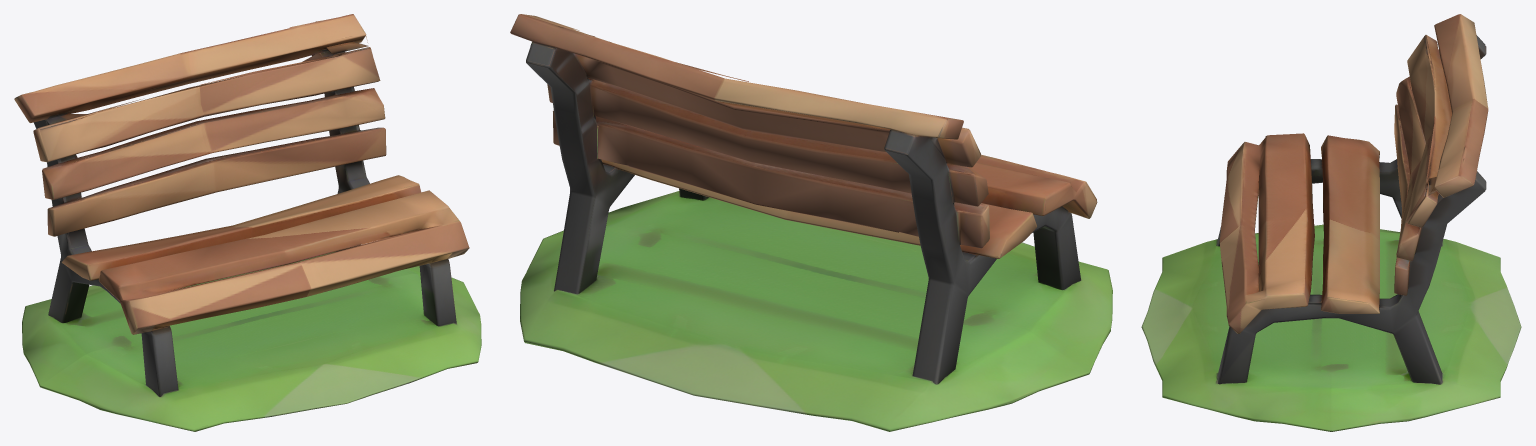
The model's file is Meshy_AI_Geometric_Solitude_0131111552_texture.fbx.
3 views of the same model, side by side, from view 1: azimuth 30°, elevation 25°; view 2: azimuth 150°, elevation 25°; view 3: azimuth 270°, elevation 25° (orthographic). The views are drawn at different scales.
Visible parts, largest first — view 1: Mesh_0; view 2: Mesh_0; view 3: Mesh_0.
Boxes of the visible parts, <box> form: Mesh_0: <box>14,14,481,431</box>; Mesh_0: <box>510,14,1112,431</box>; Mesh_0: <box>1141,14,1521,431</box>.
Size of the model in its own units: 200 by 106 by 156.
1 material, 1 textured.
